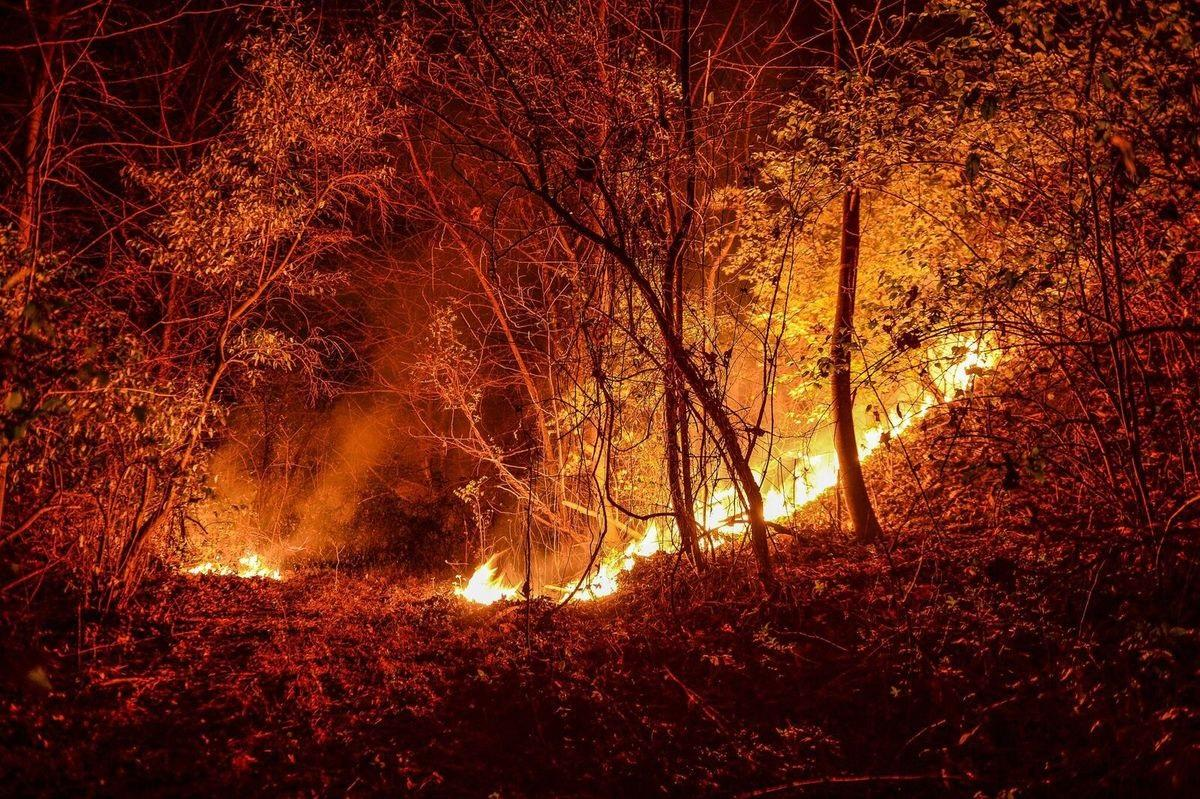Fire: (452, 310, 1029, 591), (177, 537, 289, 583)
